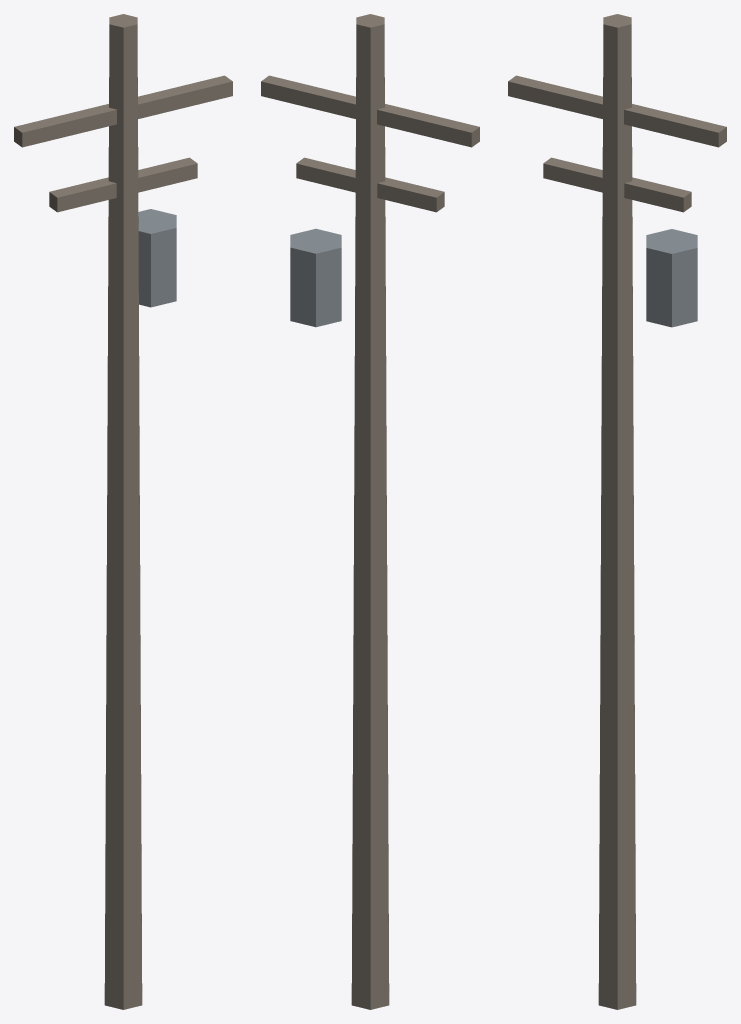
The model's file is prop_utility_pole.fbx.
3 renders of one model, left to right at view 1: azimuth 30°, elevation 25°; view 2: azimuth 150°, elevation 25°; view 3: azimuth 330°, elevation 25°, orthographic.
Parts seen in each view (by area): view 1: prop_utility_pole; view 2: prop_utility_pole; view 3: prop_utility_pole.
Part boxes in pixels (x1=…): prop_utility_pole: x1=14, y1=14, x2=232, y2=1009; prop_utility_pole: x1=261, y1=14, x2=479, y2=1009; prop_utility_pole: x1=508, y1=14, x2=726, y2=1009.
Bounding box in the file's own units: 1.8 × 8 × 0.5291.
1 material, 1 textured.
